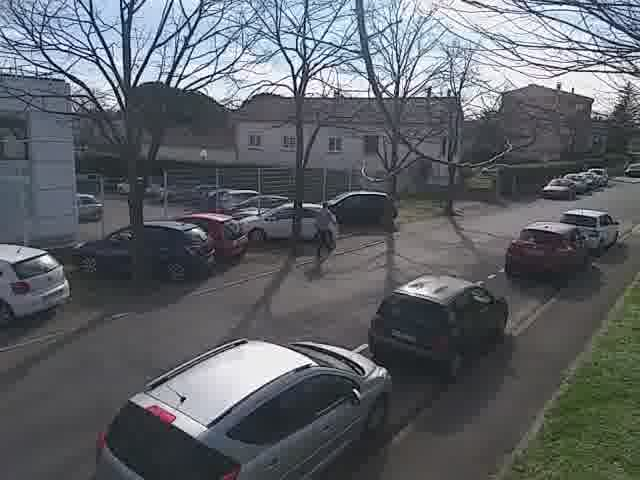persona: (308, 197, 341, 264)
